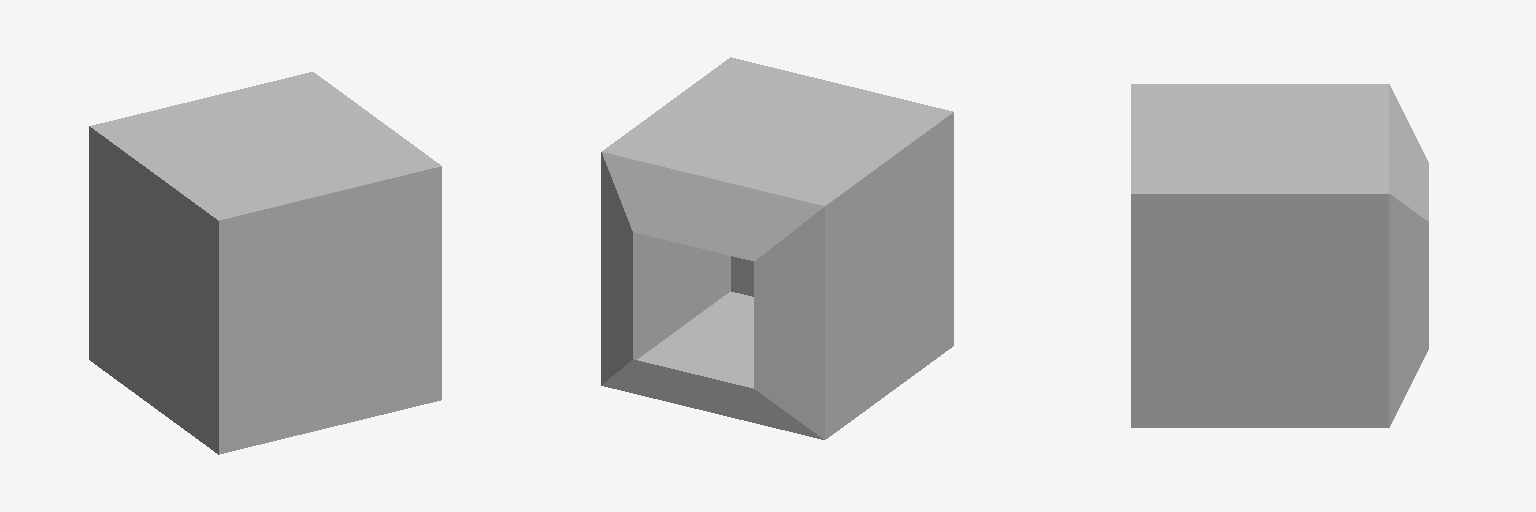
The model's file is cockpit_placeholder.obj.
3 renders of one model, left to right at view 1: azimuth 30°, elevation 25°; view 2: azimuth 150°, elevation 25°; view 3: azimuth 270°, elevation 25°, orthographic.
Parts seen in each view (by area): view 1: Cube; view 2: Cube; view 3: Cube.
Boxes of the visible parts, x1=… form: Cube: x1=89, y1=72, x2=441, y2=454; Cube: x1=601, y1=57, x2=953, y2=439; Cube: x1=1131, y1=84, x2=1428, y2=427.
Bounding box in the file's own units: 2 × 2 × 2.3.